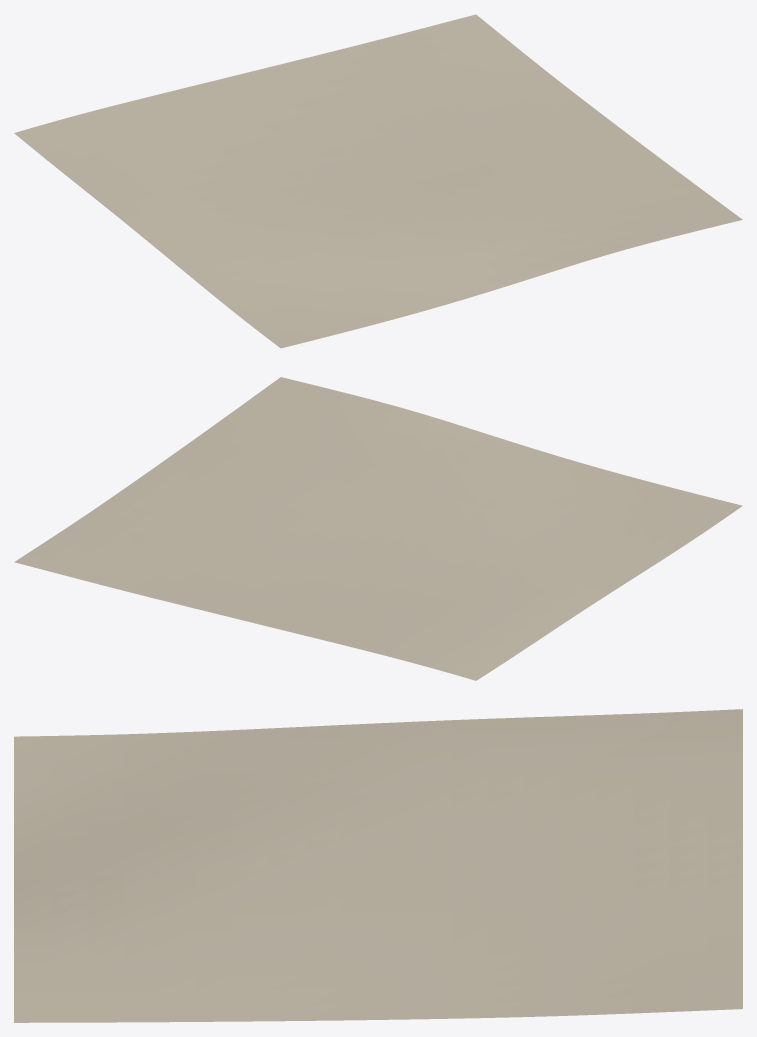
Rendered from bolak_13_-4.glb.
3 views of the same model, one above another, from view 1: azimuth 30°, elevation 25°; view 2: azimuth 150°, elevation 25°; view 3: azimuth 270°, elevation 25° (orthographic). The views are drawn at different scales.
Parts seen in each view (by area): view 1: Yer_Tuproq-col; view 2: Yer_Tuproq-col; view 3: Yer_Tuproq-col.
Part boxes in pixels (x1,y1,x2,y2): Yer_Tuproq-col: (14, 14, 742, 348); Yer_Tuproq-col: (14, 377, 742, 680); Yer_Tuproq-col: (14, 709, 742, 1022).
Size of the model in its own units: 400 by 21.54 by 400.
